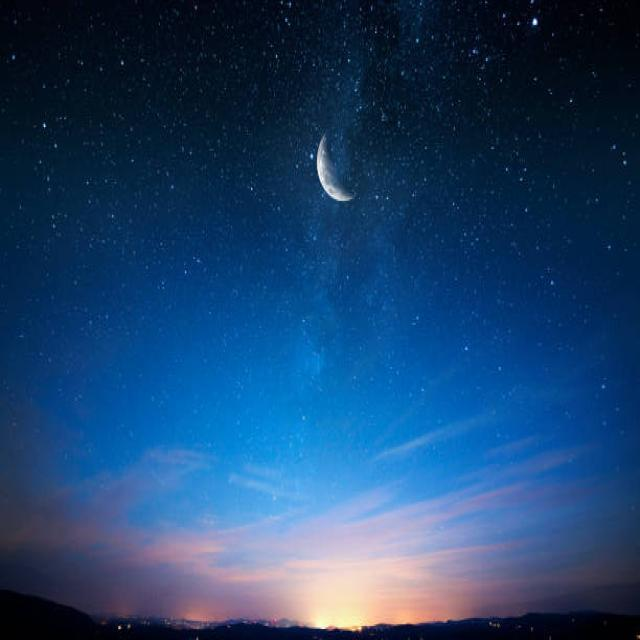moon: (308, 121, 376, 202)
